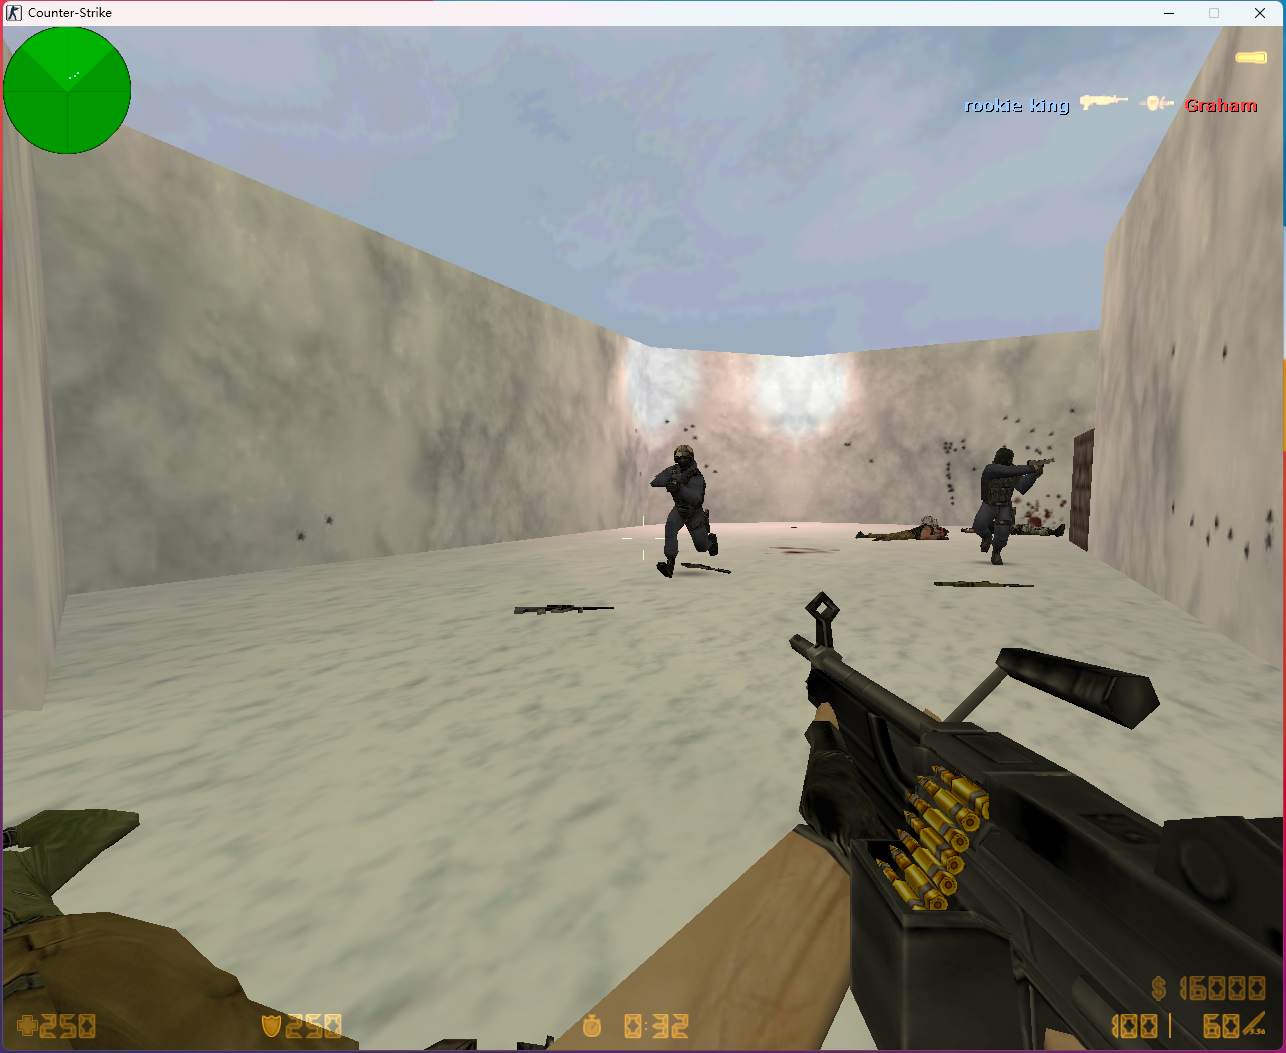C: (650, 445, 719, 580), (974, 449, 1031, 567), (853, 520, 951, 543)
weapon: (512, 600, 622, 619), (934, 576, 1031, 592), (679, 561, 728, 575)
